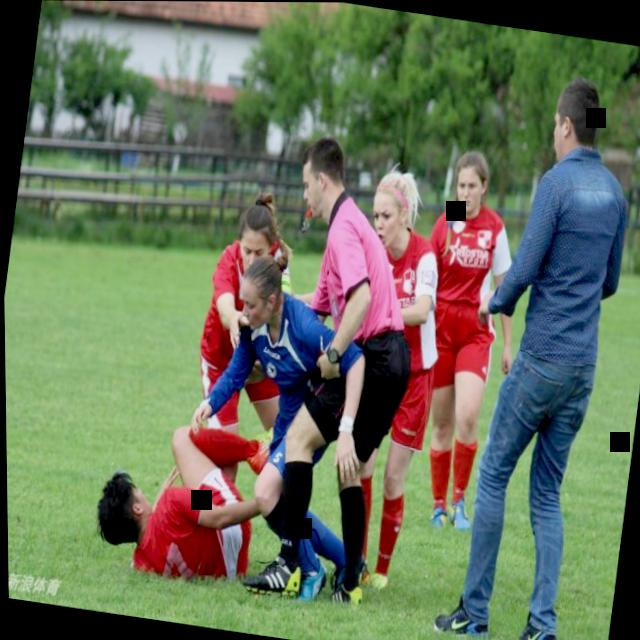Fall-Detected: (75, 387, 322, 609)
